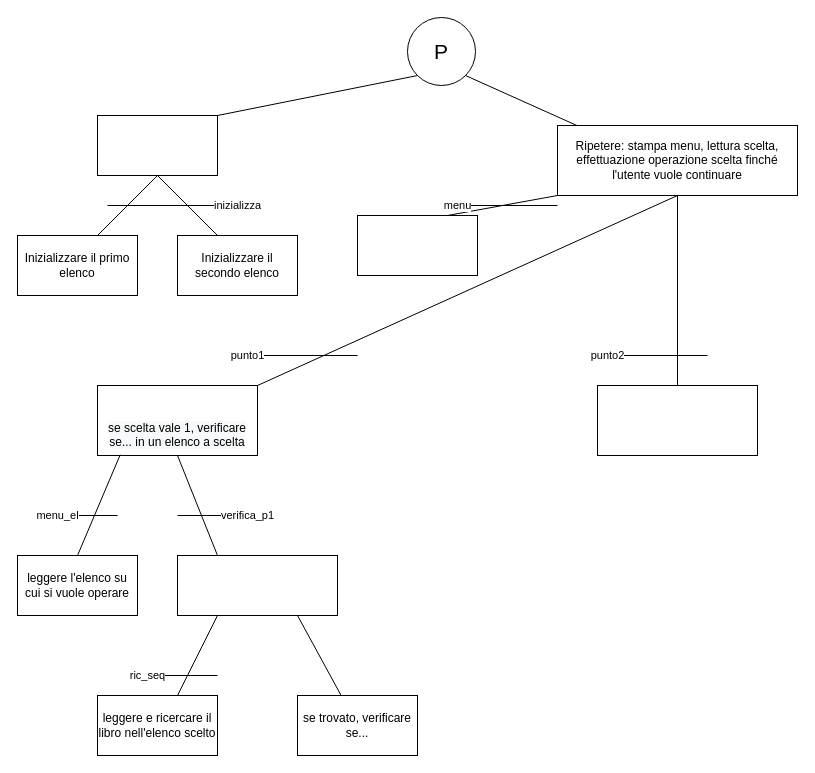
Some shapes in this 815 by 773 pixel diagram are drawn without their labels. The centre of each missing label's shape, as x and y in pixels:
Inizializzare due elenchi di libri: point (157, 145)
se scelta vale 2, calcolare i D.F.P2 nel secondo elenco: point (677, 420)
stampa menu e lettura scelta: point (417, 245)
verificare se... nell'elenco scelto: point (257, 585)
